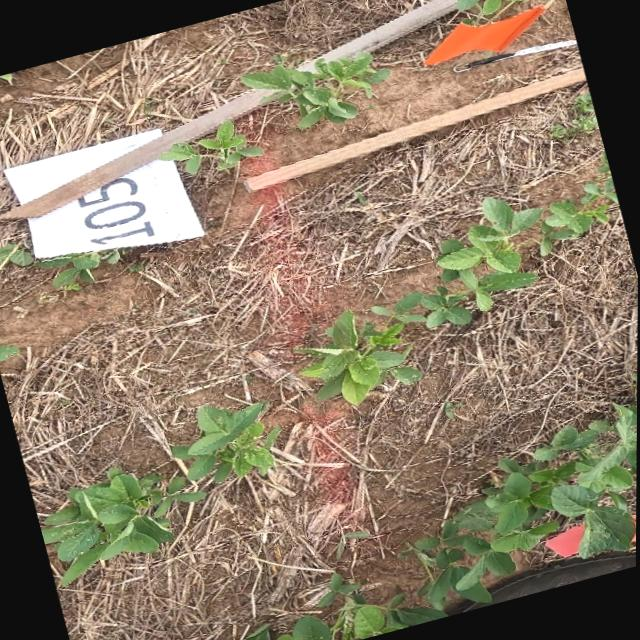caruru_weed: (552, 90, 598, 141)
soy_plant: (244, 405, 638, 640), (300, 155, 618, 403), (42, 467, 203, 581), (241, 51, 389, 127), (172, 402, 278, 481), (0, 241, 124, 289), (159, 119, 262, 173), (338, 529, 369, 557), (0, 344, 18, 360)
